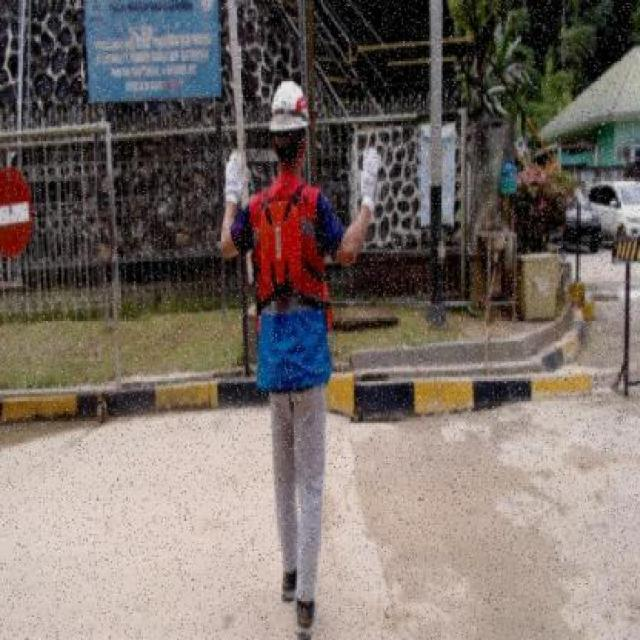Boots: (291, 589, 318, 640), (279, 561, 301, 602)
Gloves: (357, 147, 381, 216), (224, 149, 248, 208)
Helmet: (268, 76, 310, 133)
Vest: (259, 198, 303, 288)
